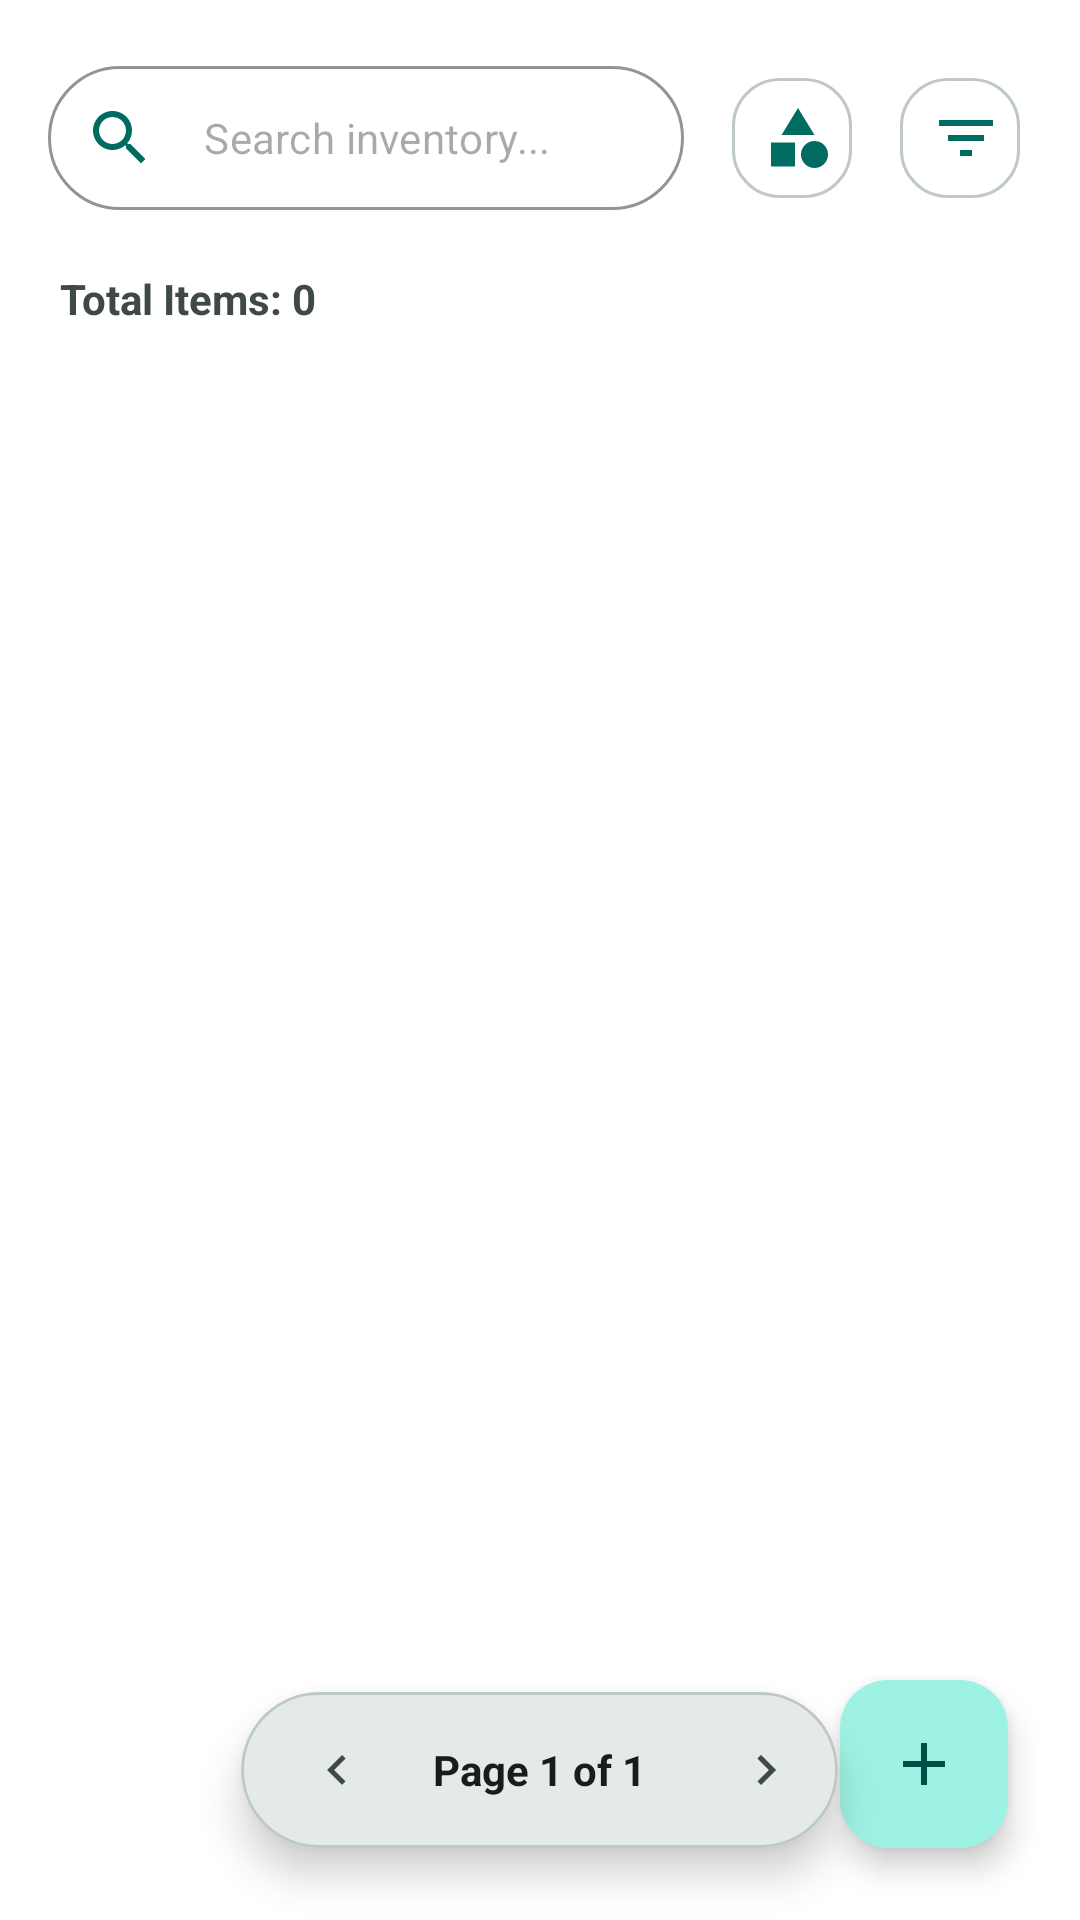

Locate icon controls on the screen. Image size 1080×1920, boxes as (x1, y1, x2, y2).
Add Medicine: (840, 1680, 1008, 1848)
category: (732, 78, 852, 198)
chevron left: (327, 1755, 346, 1785)
chevron right: (757, 1755, 776, 1785)
filter list: (900, 78, 1020, 198)
